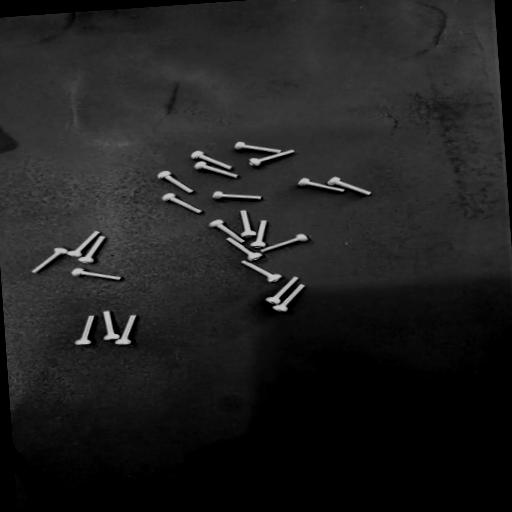Bolt: (32, 248, 67, 273), (262, 234, 308, 253), (273, 285, 305, 312), (266, 277, 298, 304), (67, 231, 100, 257), (248, 150, 295, 168), (242, 261, 282, 282), (209, 219, 244, 242), (227, 238, 263, 260), (191, 151, 232, 170), (162, 194, 203, 213), (328, 177, 371, 195), (158, 171, 193, 193), (195, 161, 238, 178), (73, 316, 97, 346), (79, 236, 105, 263), (298, 178, 345, 192), (72, 268, 122, 280), (116, 316, 137, 344), (234, 142, 281, 153), (103, 311, 120, 340), (251, 220, 267, 248), (213, 191, 262, 200), (241, 211, 256, 238)
